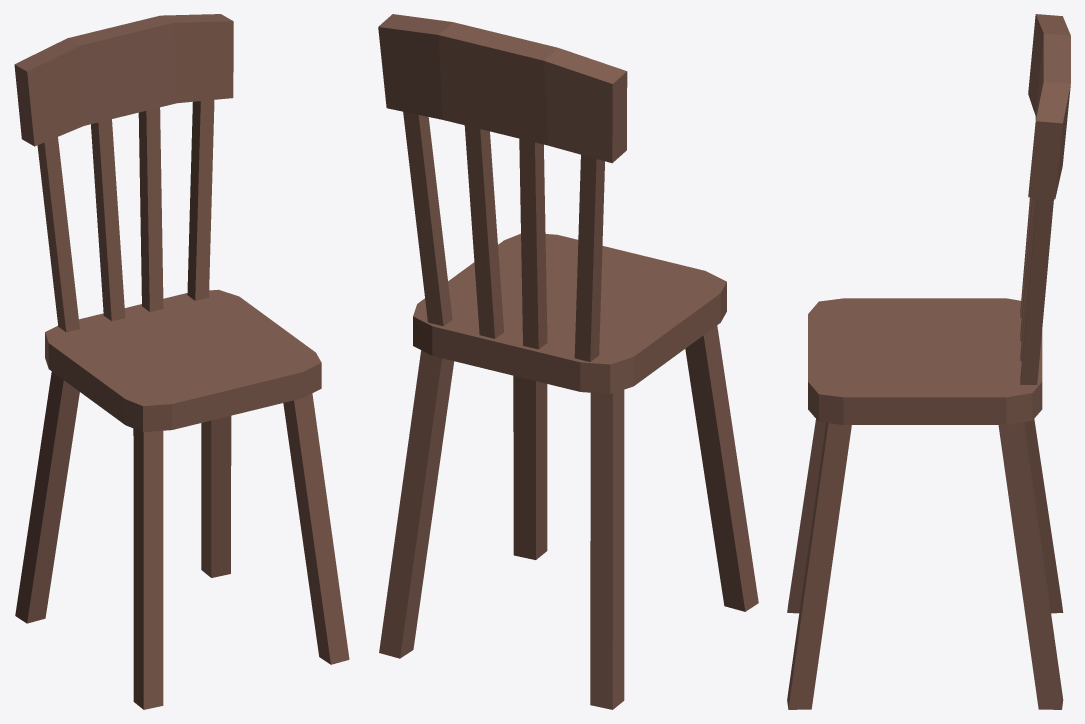
The model's file is chair.glb.
3 views of the same model, side by side, from view 1: azimuth 30°, elevation 25°; view 2: azimuth 150°, elevation 25°; view 3: azimuth 270°, elevation 25° (orthographic). The views are drawn at different scales.
Parts seen in each view (by area): view 1: node-0; view 2: node-0; view 3: node-0.
Boxes of the visible parts, bbox=[...] form: node-0: bbox=[14, 14, 349, 709]; node-0: bbox=[378, 14, 758, 709]; node-0: bbox=[787, 14, 1070, 709].
Size of the model in its own units: 8.4 by 21.88 by 9.39.
